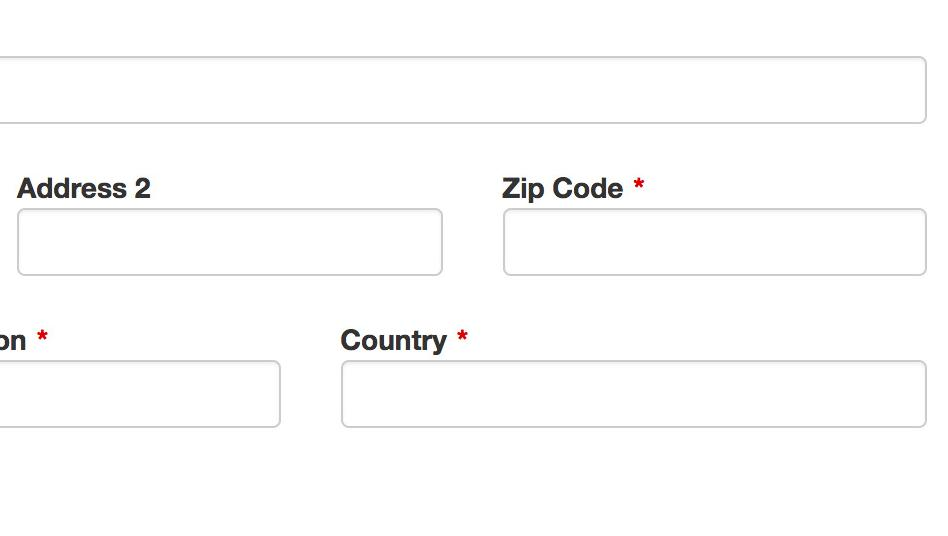field: (333, 354, 938, 437), (5, 201, 447, 284), (500, 201, 931, 281)
field_with_label: (328, 323, 938, 443), (5, 173, 448, 290), (497, 174, 936, 285)
